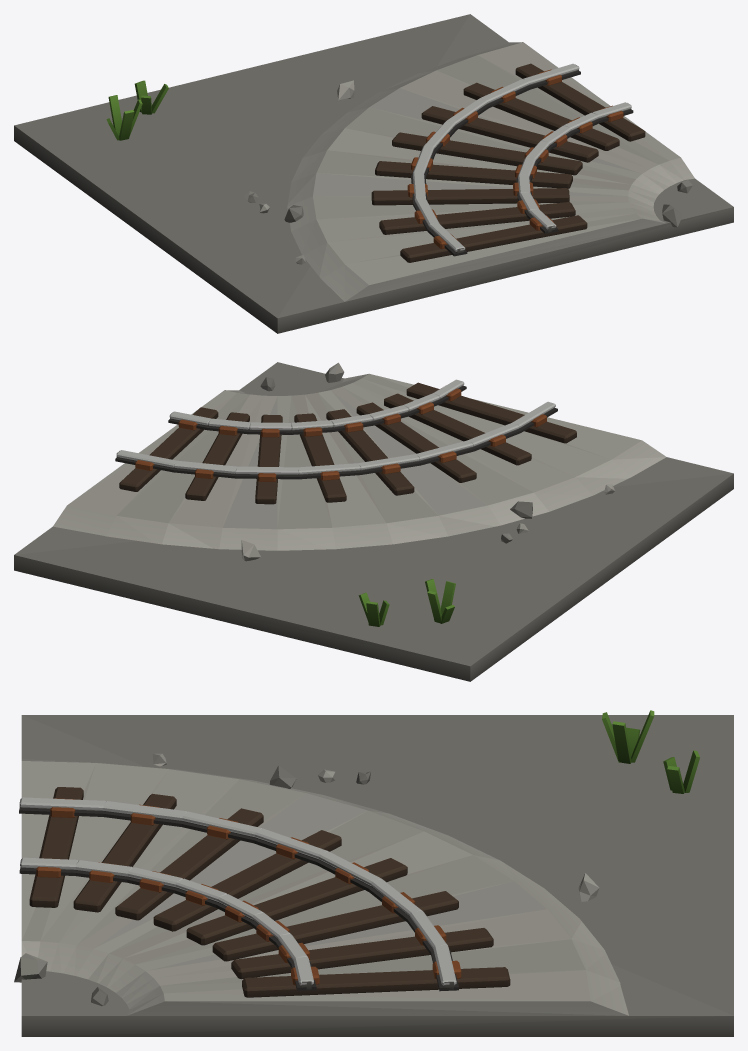
The model's file is track-curve-tile.glb.
The picture shows the model from 3 angles, top to bottom: view 1: azimuth 30°, elevation 25°; view 2: azimuth 150°, elevation 25°; view 3: azimuth 270°, elevation 25°; orthographic projection. The views are drawn at different scales.
Visible parts, largest first — view 1: track_curve_tile; view 2: track_curve_tile; view 3: track_curve_tile.
Boxes of the visible parts, x1,y1,x2,y2 form: track_curve_tile: (14,14,733,333); track_curve_tile: (14,362,733,681); track_curve_tile: (14,710,733,1036).
Size of the model in its own units: 4.01 by 0.4255 by 4.04.
